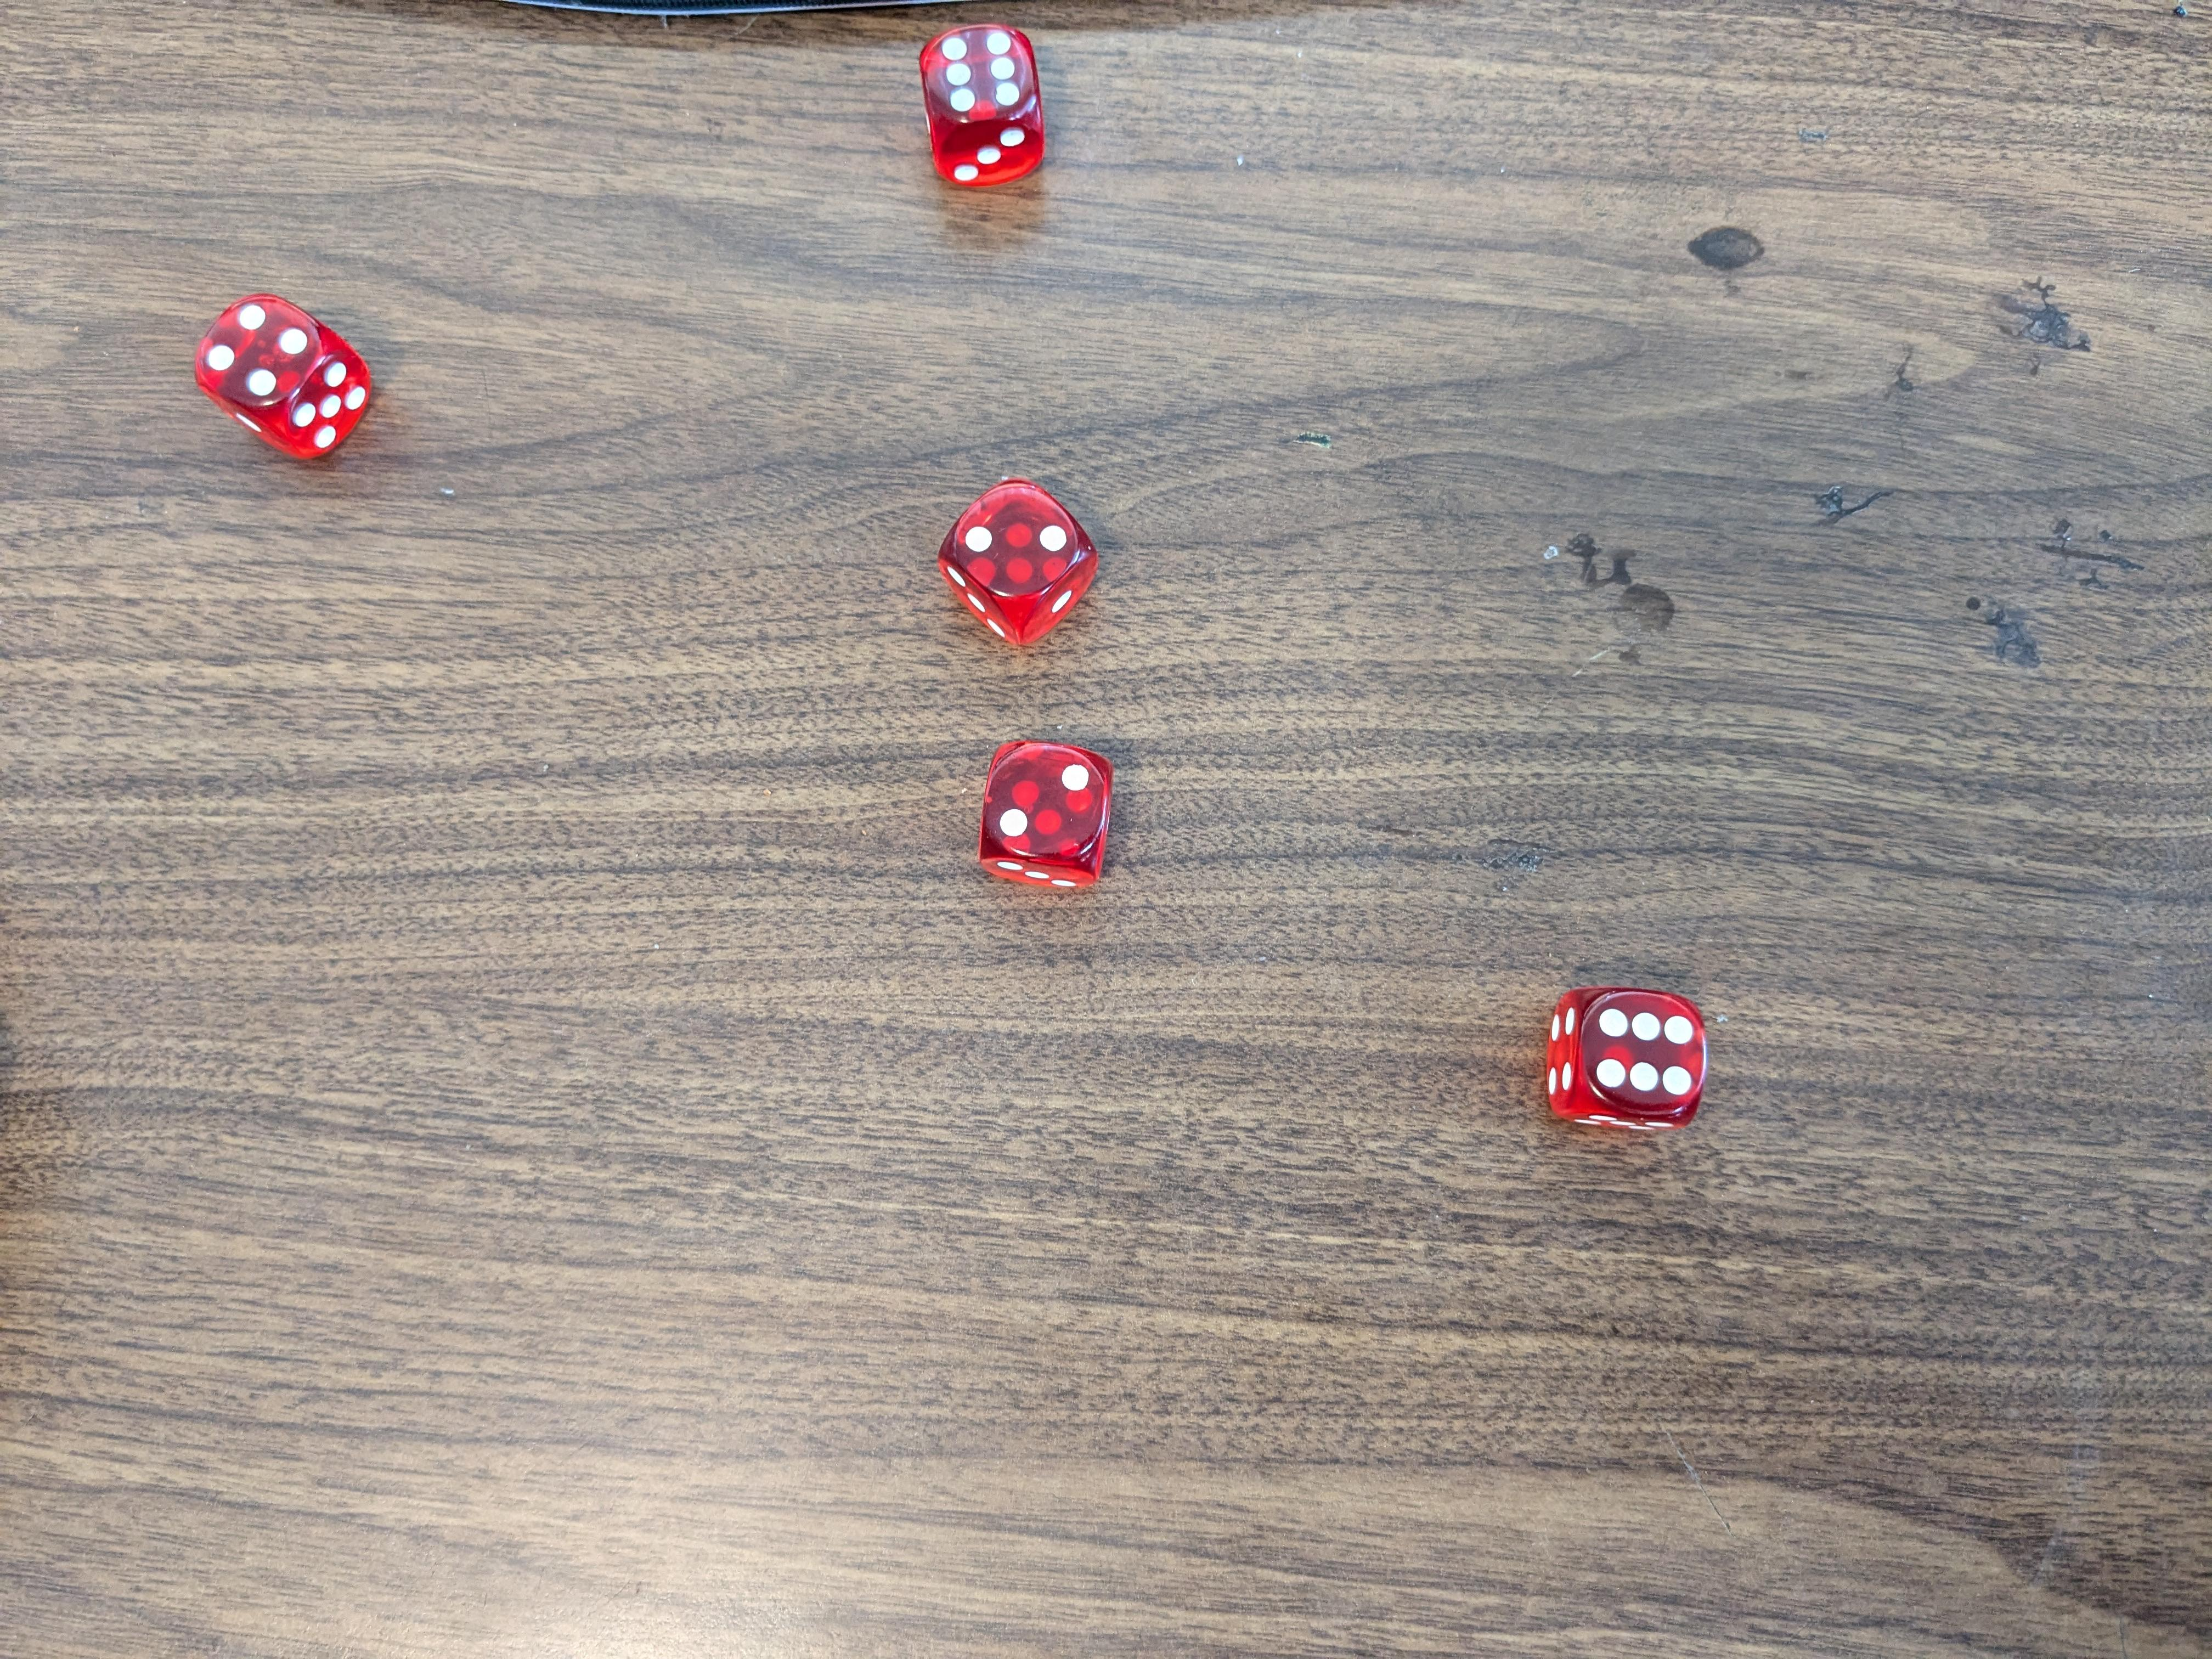four: (195, 286, 374, 451)
six: (1545, 983, 1712, 1134), (918, 24, 1049, 188)
two: (948, 476, 1099, 648), (977, 735, 1111, 892)
